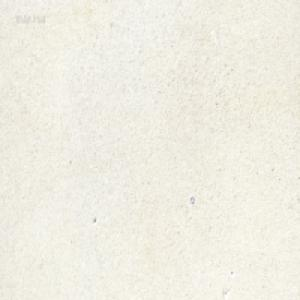Washer: (189, 195, 194, 205)
